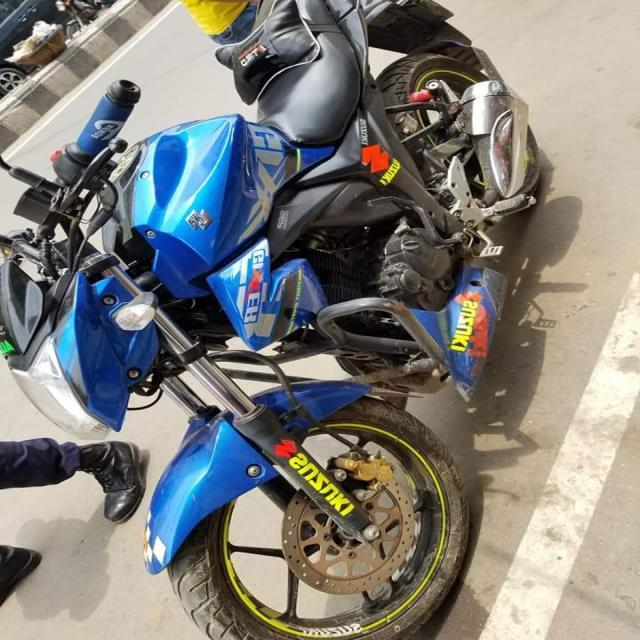Motorbike: (4, 1, 541, 640)
